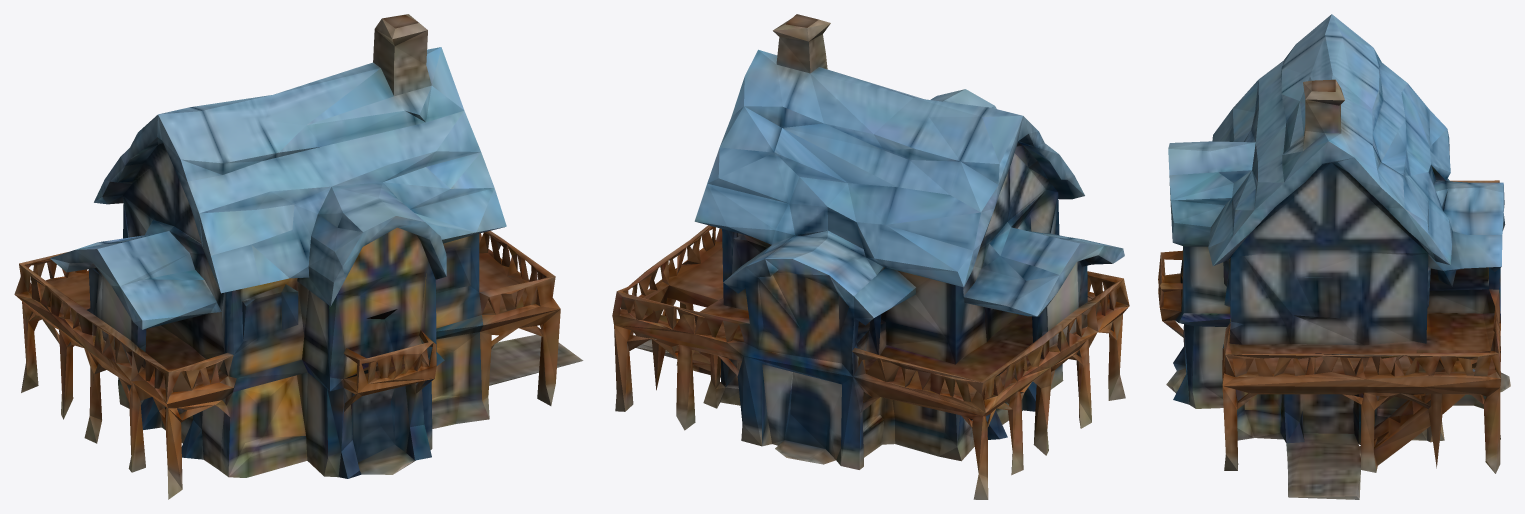
Rendered from tavern_blue_porch_lod1.glb.
The picture shows the model from 3 angles, left to right: view 1: azimuth 30°, elevation 25°; view 2: azimuth 150°, elevation 25°; view 3: azimuth 270°, elevation 25°; orthographic projection. The views are drawn at different scales.
Parts seen in each view (by area): view 1: tavern_blue_porch_lod1; view 2: tavern_blue_porch_lod1; view 3: tavern_blue_porch_lod1.
Boxes of the visible parts, x1,y1,x2,y2 form: tavern_blue_porch_lod1: (14, 14, 583, 499); tavern_blue_porch_lod1: (612, 14, 1129, 499); tavern_blue_porch_lod1: (1158, 14, 1510, 499).
Size of the model in its own units: 7.97 by 6.09 by 5.67.
Materials: 1 (1 with a texture image).
